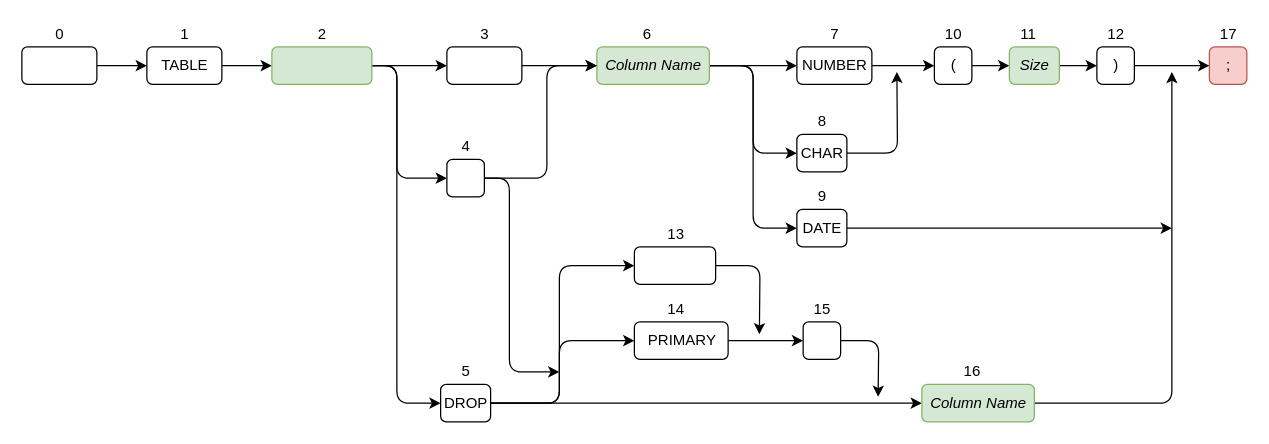
Some shapes in this 1269 by 444 pixel diagram are drawn without their labels. Each missing label, with the centre of its shape:
ADD: pixel 465 177
ALTER: pixel 59 65
FOREIGN: pixel 674 265
KEY: pixel 821 340
MODIFY: pixel 484 65
Table Name: pixel 321 65
